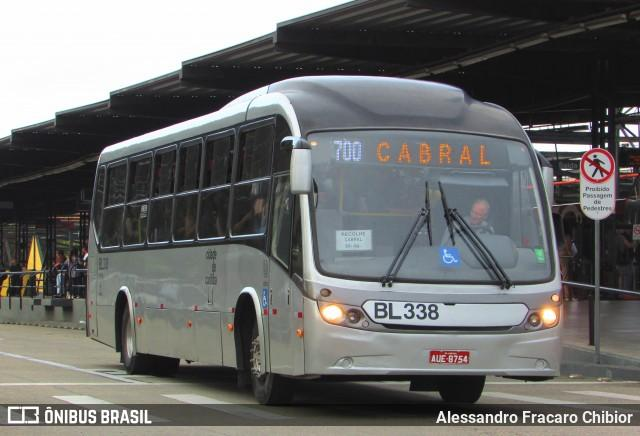CABRAL: (369, 134, 492, 169)
